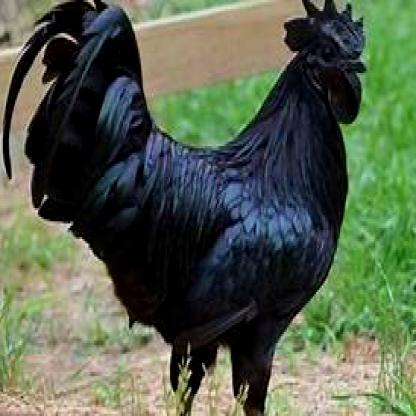chicken: (1, 0, 372, 414)
